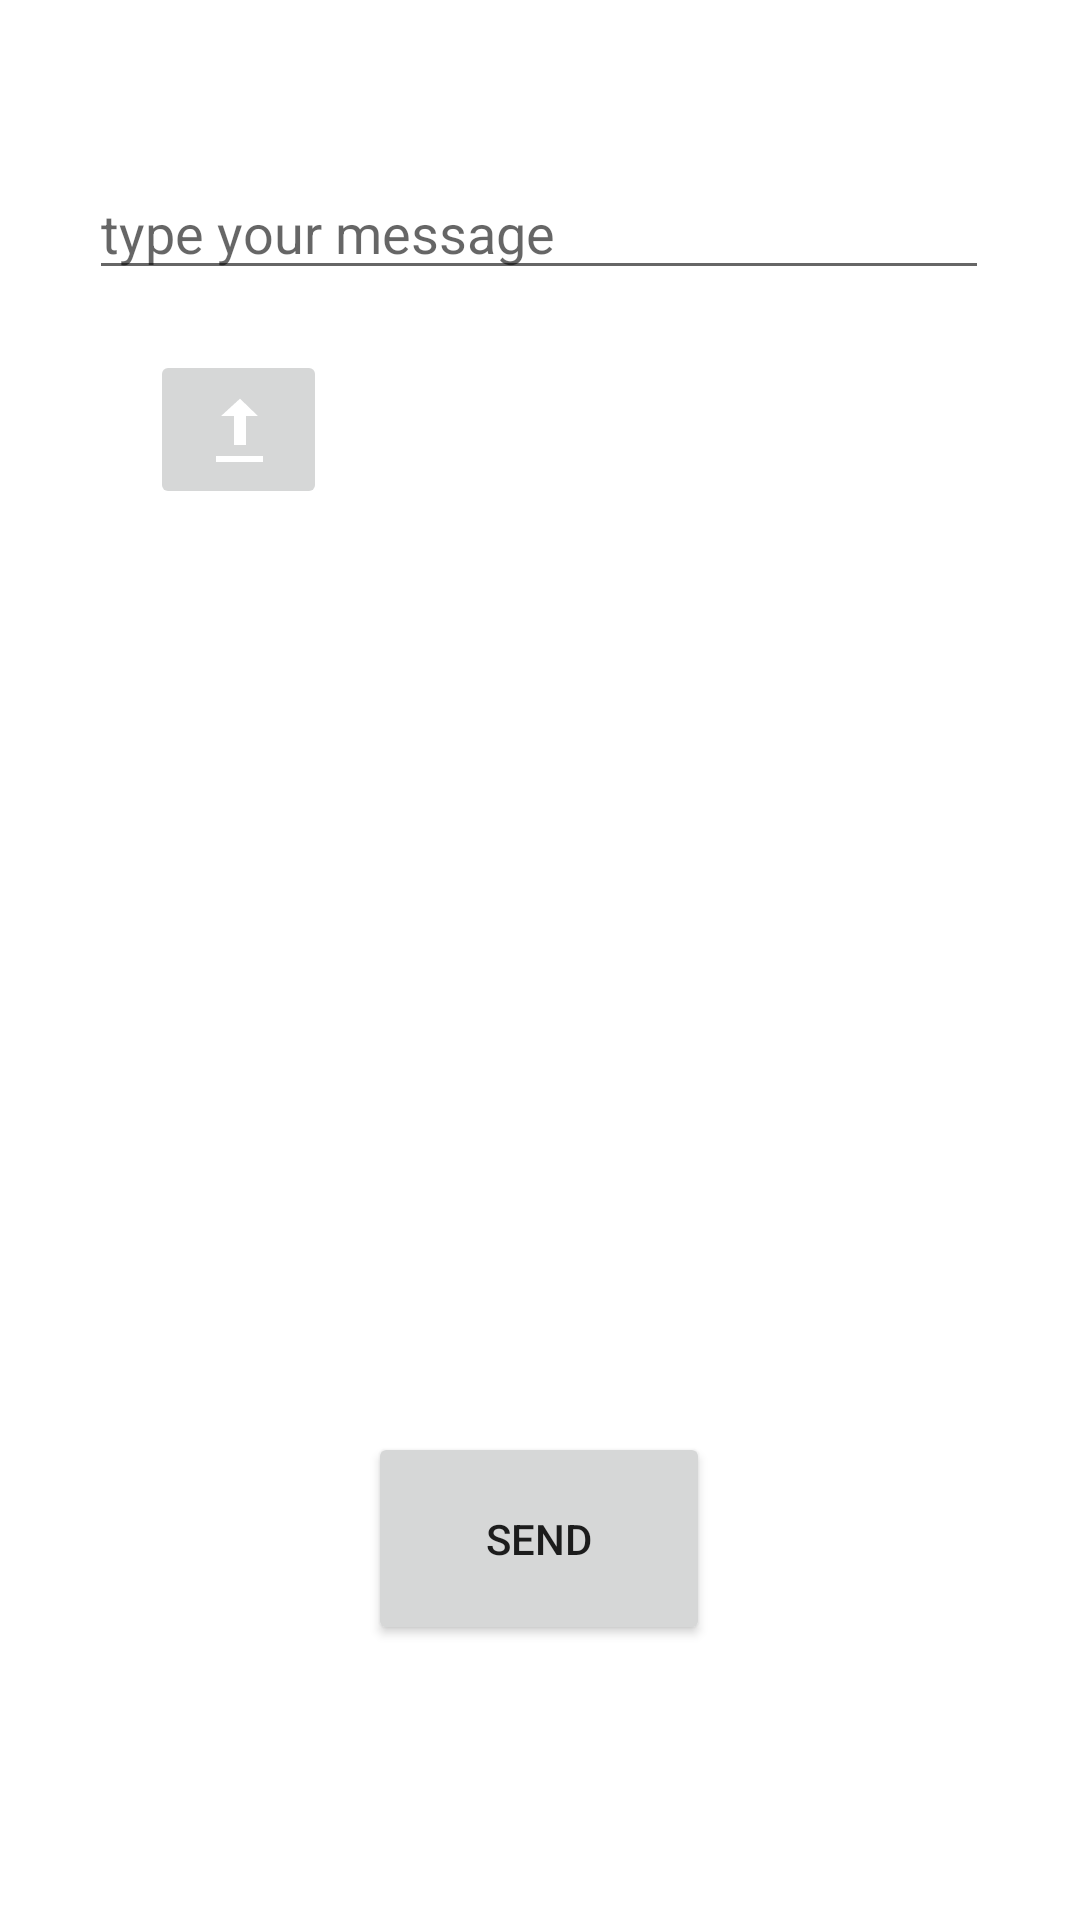

Screen size 1080×1920. Icon name, then its center in pixels as point (x, y):
opengallery: point (238, 429)
